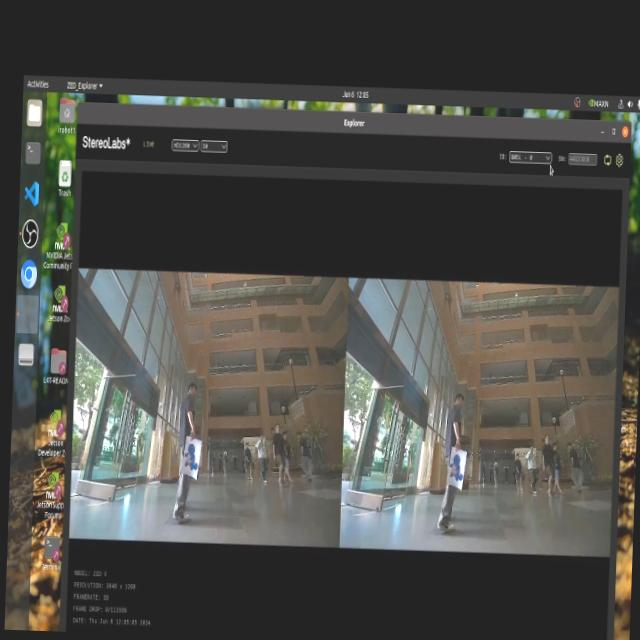blue: (442, 450, 466, 496), (187, 440, 200, 476)
